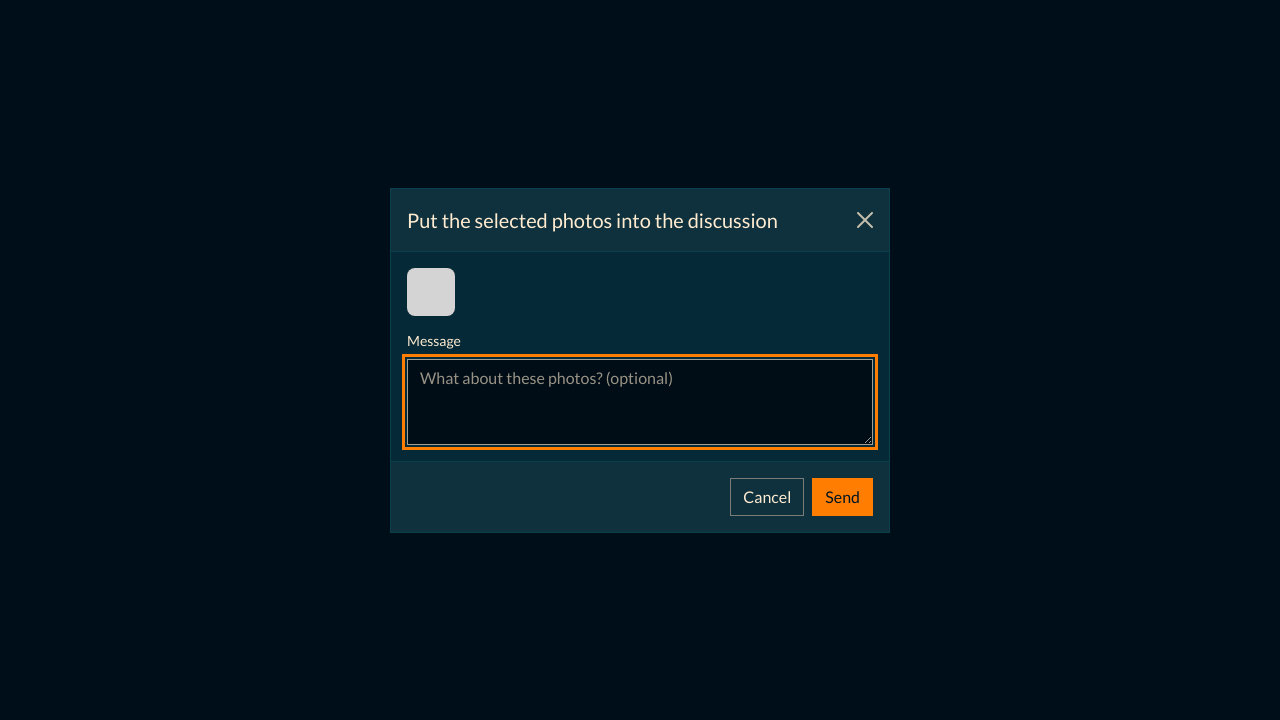
Scenario: DiscussPhotosModal › keeps the dialog and the message when the post fails, saying so inline
This screenshot has width=1280, height=720.
Type "Still here" into the text box labelled "Message". click: coordinates (640, 402)
box: [407,358,873,444]
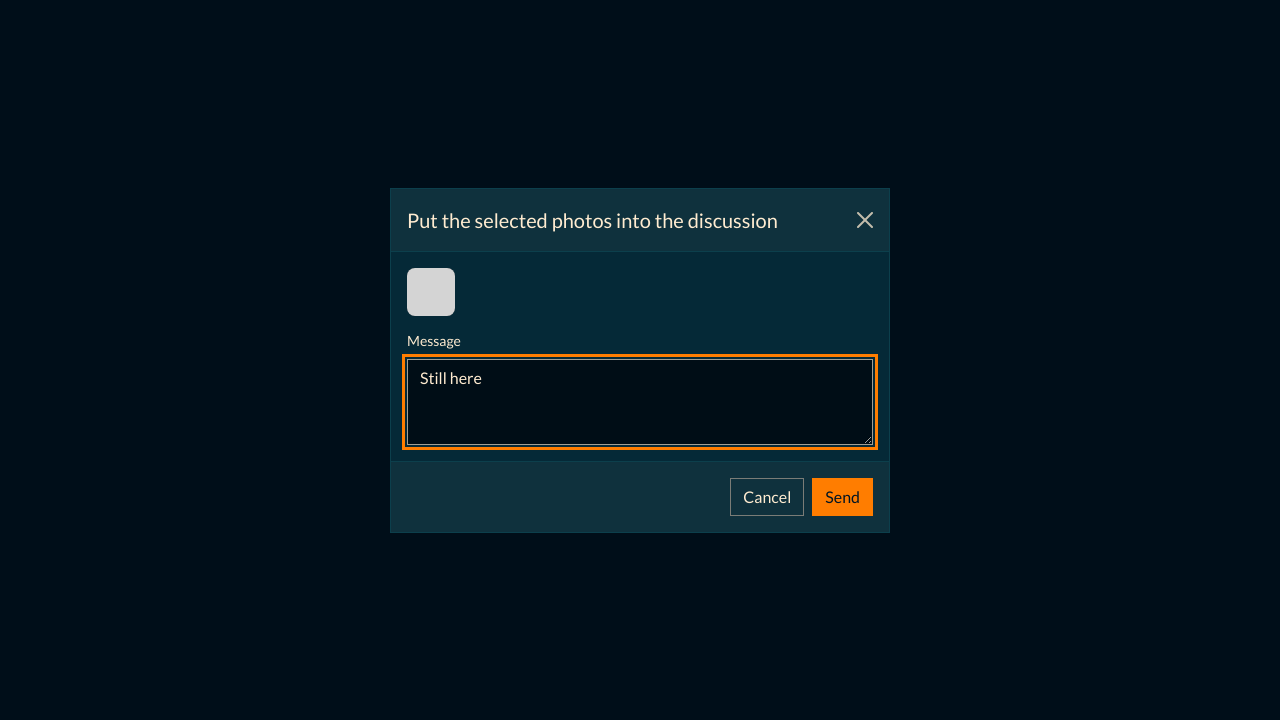
Click the button "Send". click: coordinates (843, 496)
box: [812,478,873,516]
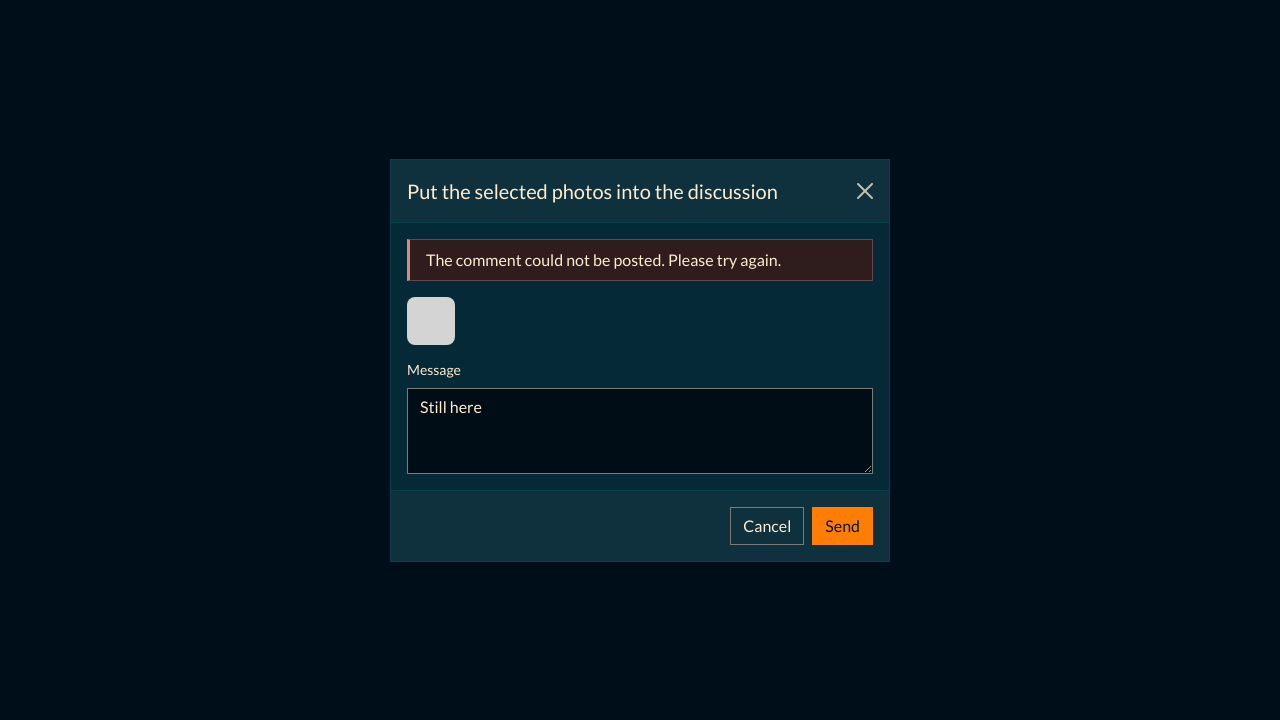
Now the text "The comment could not be posted. Please try again." is shown, box [407,238,873,280]
